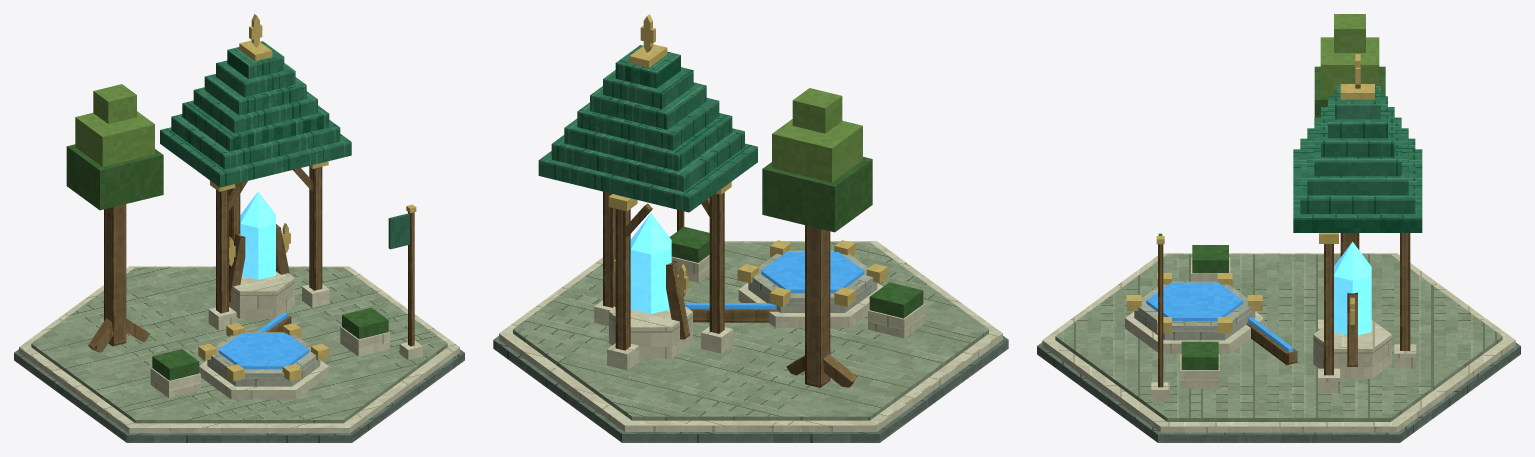
Rendered from elf_arcane_shrine_hex_v1.glb.
3 views of the same model, side by side, from view 1: azimuth 30°, elevation 25°; view 2: azimuth 150°, elevation 25°; view 3: azimuth 270°, elevation 25° (orthographic). The views are drawn at different scales.
Parts seen in each view (by area): view 1: Elf_Arcane_Shrine_Hex_V1_Foundation, Elf_Arcane_Shrine_Hex_V1_Roofs, Elf_Arcane_Shrine_Hex_V1_Focus, Elf_Arcane_Shrine_Hex_V1_Details, Elf_Arcane_Shrine_Hex_V1_Structure, Elf_Arcane_Shrine_Hex_V1_Courtyard, Elf_Arcane_Shrine_Hex_V1_Faction; view 2: Elf_Arcane_Shrine_Hex_V1_Foundation, Elf_Arcane_Shrine_Hex_V1_Roofs, Elf_Arcane_Shrine_Hex_V1_Details, Elf_Arcane_Shrine_Hex_V1_Focus, Elf_Arcane_Shrine_Hex_V1_Structure, Elf_Arcane_Shrine_Hex_V1_Courtyard; view 3: Elf_Arcane_Shrine_Hex_V1_Foundation, Elf_Arcane_Shrine_Hex_V1_Roofs, Elf_Arcane_Shrine_Hex_V1_Focus, Elf_Arcane_Shrine_Hex_V1_Details, Elf_Arcane_Shrine_Hex_V1_Structure, Elf_Arcane_Shrine_Hex_V1_Courtyard.
Boxes of the visible parts, <box> form: Elf_Arcane_Shrine_Hex_V1_Foundation: <box>14,266,464,442</box>; Elf_Arcane_Shrine_Hex_V1_Roofs: <box>160,40,351,187</box>; Elf_Arcane_Shrine_Hex_V1_Focus: <box>198,191,329,399</box>; Elf_Arcane_Shrine_Hex_V1_Details: <box>66,14,422,380</box>; Elf_Arcane_Shrine_Hex_V1_Structure: <box>88,161,329,352</box>; Elf_Arcane_Shrine_Hex_V1_Courtyard: <box>150,316,390,398</box>; Elf_Arcane_Shrine_Hex_V1_Faction: <box>388,213,409,249</box>; Elf_Arcane_Shrine_Hex_V1_Foundation: <box>493,241,1008,442</box>; Elf_Arcane_Shrine_Hex_V1_Roofs: <box>538,44,757,212</box>; Elf_Arcane_Shrine_Hex_V1_Details: <box>613,14,923,318</box>; Elf_Arcane_Shrine_Hex_V1_Focus: <box>609,213,887,358</box>; Elf_Arcane_Shrine_Hex_V1_Structure: <box>594,182,857,387</box>; Elf_Arcane_Shrine_Hex_V1_Courtyard: <box>671,255,925,338</box>; Elf_Arcane_Shrine_Hex_V1_Foundation: <box>1037,253,1520,442</box>; Elf_Arcane_Shrine_Hex_V1_Roofs: <box>1293,84,1422,232</box>; Elf_Arcane_Shrine_Hex_V1_Focus: <box>1125,241,1391,378</box>; Elf_Arcane_Shrine_Hex_V1_Details: <box>1151,14,1385,400</box>; Elf_Arcane_Shrine_Hex_V1_Structure: <box>1318,233,1416,393</box>; Elf_Arcane_Shrine_Hex_V1_Courtyard: <box>1180,257,1297,388</box>.
Bounding box in the file's own units: 1.59 × 1.38 × 1.84.
1 material, 1 textured.
